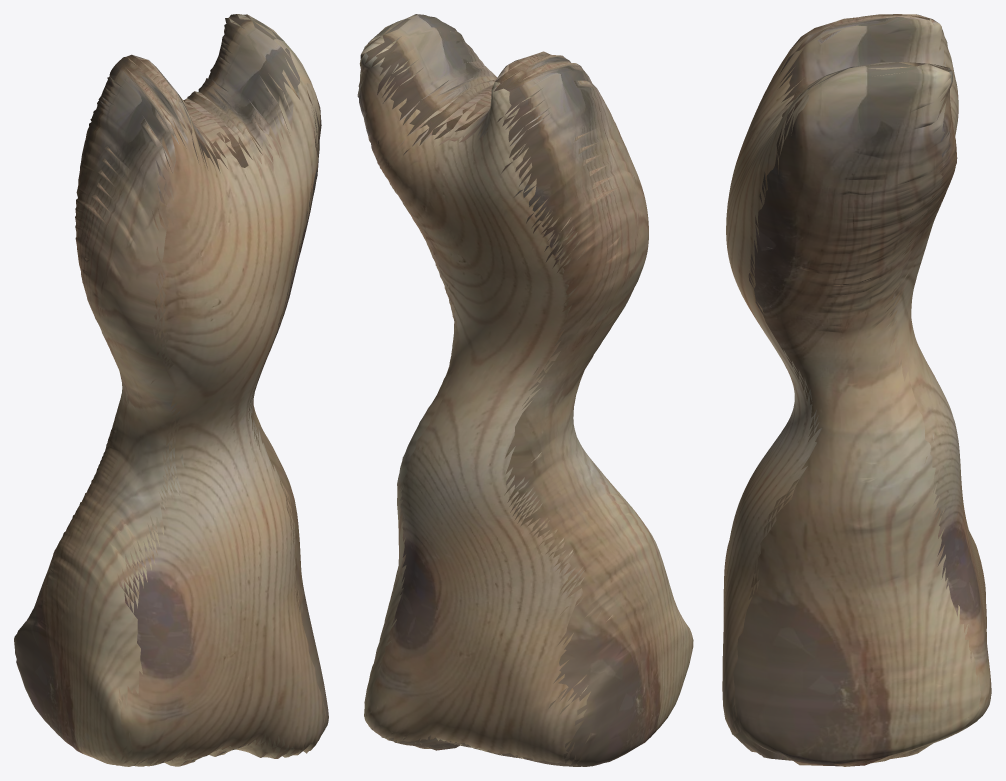
File: escultura-bifurcada.glb
3 renders of one model, left to right at view 1: azimuth 30°, elevation 25°; view 2: azimuth 150°, elevation 25°; view 3: azimuth 270°, elevation 25°, orthographic. The views are drawn at different scales.
Visible parts, largest first — view 1: world; view 2: world; view 3: world.
Part boxes in pixels (x1,y1,x2,y2): world: (14, 14, 328, 766); world: (357, 14, 693, 766); world: (722, 14, 991, 766).
Bounding box in the file's own units: 0.1155 × 0.3058 × 0.1067.
1 material, 1 textured.
